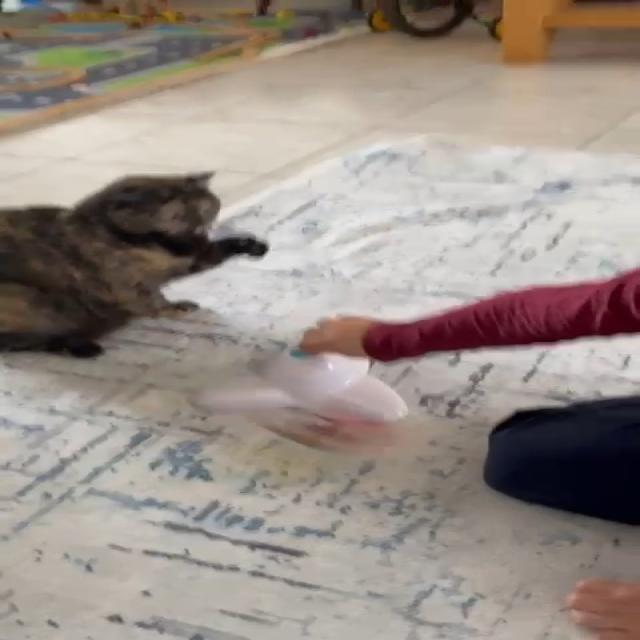authorized: (0, 169, 268, 359)
